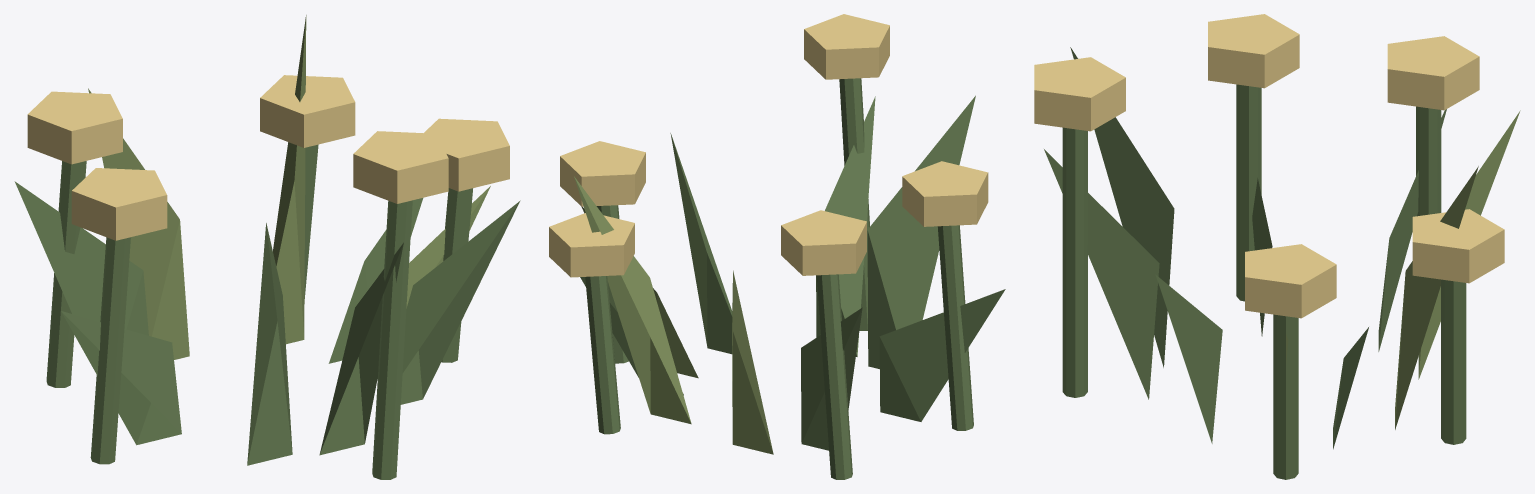
File: wildflowers.glb
3 renders of one model, left to right at view 1: azimuth 30°, elevation 25°; view 2: azimuth 150°, elevation 25°; view 3: azimuth 270°, elevation 25°, orthographic. The views are drawn at different scales.
Parts seen in each view (by area): view 1: wildflowers; view 2: wildflowers; view 3: wildflowers.
Part boxes in pixels (x1,y1,x2,y2): wildflowers: (14, 15, 520, 479); wildflowers: (549, 14, 1005, 479); wildflowers: (1034, 14, 1520, 479).
Size of the model in its own units: 0.5118 by 0.3386 by 0.4602.
